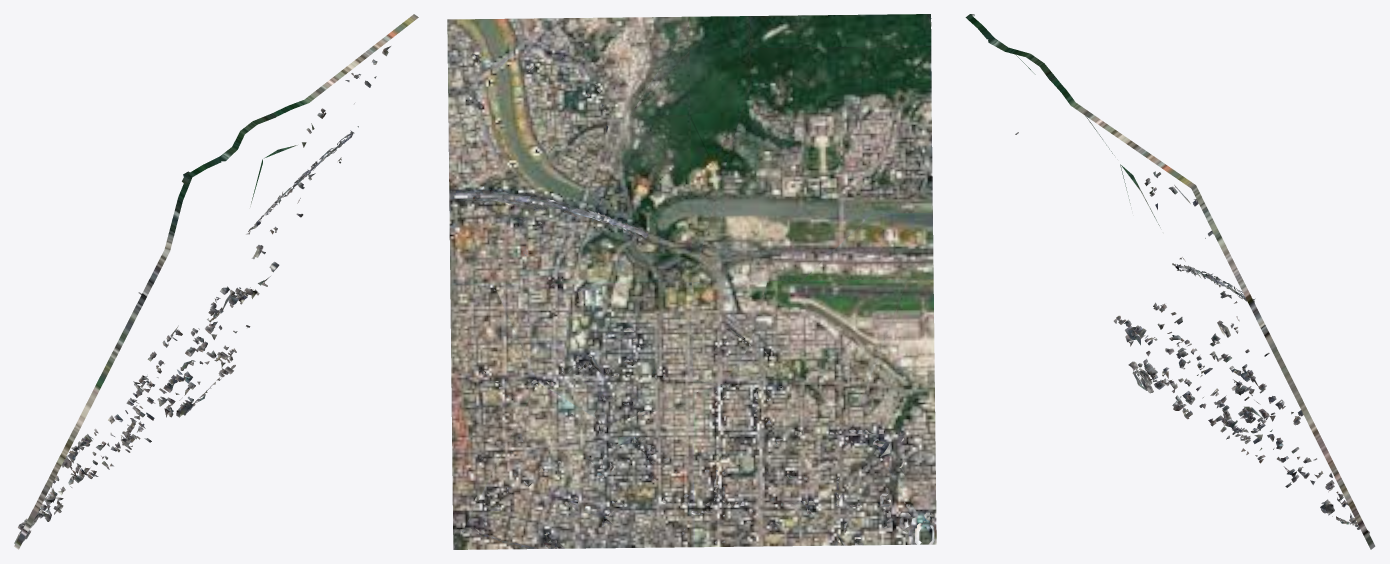
3 views of the same model, side by side, from view 1: azimuth 30°, elevation 25°; view 2: azimuth 150°, elevation 25°; view 3: azimuth 270°, elevation 25° (orthographic). The views are drawn at different scales.
Size of the model in its own units: 4895 by 4516 by 4025.
Materials: 1 (1 with a texture image).
